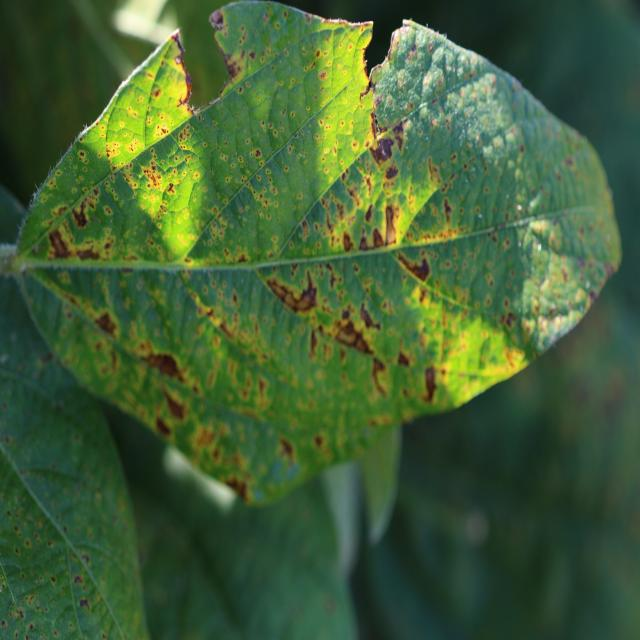Bacterial_Blight: (263, 260, 320, 329), (207, 10, 247, 83), (165, 29, 194, 107), (419, 210, 474, 244), (140, 348, 188, 385), (333, 316, 375, 355), (374, 117, 409, 160), (395, 251, 432, 283), (159, 384, 188, 421), (70, 195, 98, 230), (47, 228, 73, 260), (192, 94, 225, 117), (369, 137, 394, 167), (371, 357, 389, 398), (216, 317, 241, 343), (94, 310, 118, 337), (421, 365, 438, 403), (359, 301, 380, 331), (224, 475, 249, 500), (384, 205, 399, 245), (503, 346, 525, 371), (368, 62, 384, 96), (278, 437, 295, 463), (155, 414, 172, 437), (428, 157, 441, 184), (383, 161, 399, 182), (361, 71, 373, 98), (209, 9, 224, 29), (397, 348, 411, 368), (372, 227, 385, 248), (443, 197, 453, 224), (105, 142, 120, 158), (343, 231, 354, 252), (406, 41, 417, 61), (365, 204, 374, 225), (79, 598, 90, 610), (166, 182, 176, 195), (314, 435, 323, 448), (73, 575, 83, 585), (319, 71, 327, 80), (174, 56, 182, 64), (255, 148, 261, 157), (50, 575, 56, 584), (161, 127, 168, 134), (79, 151, 85, 158)
Soybean: (0, 2, 621, 504)
